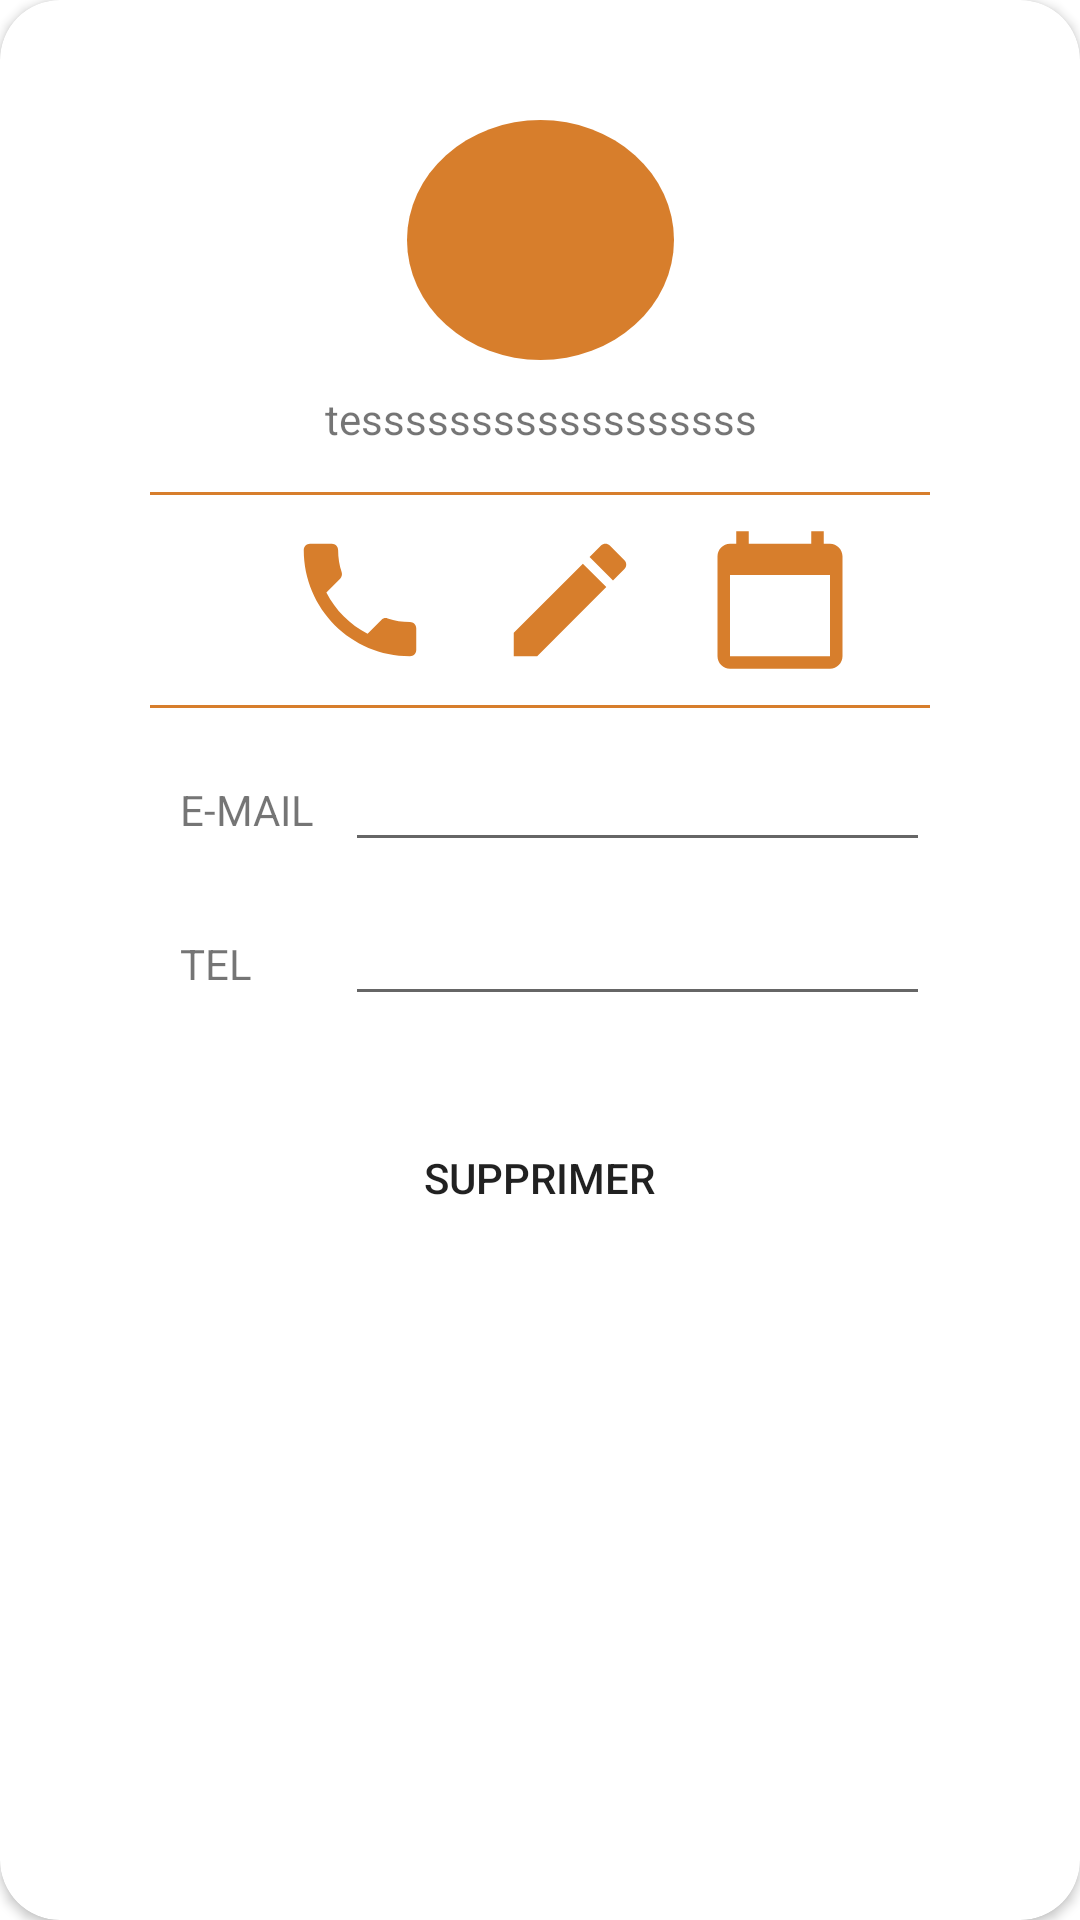

Icon click points for this 1080 x 1920 phone screenshot, format point (x, y):
calendar today: point (780, 600)
edit: point (570, 600)
phone: point (360, 600)
